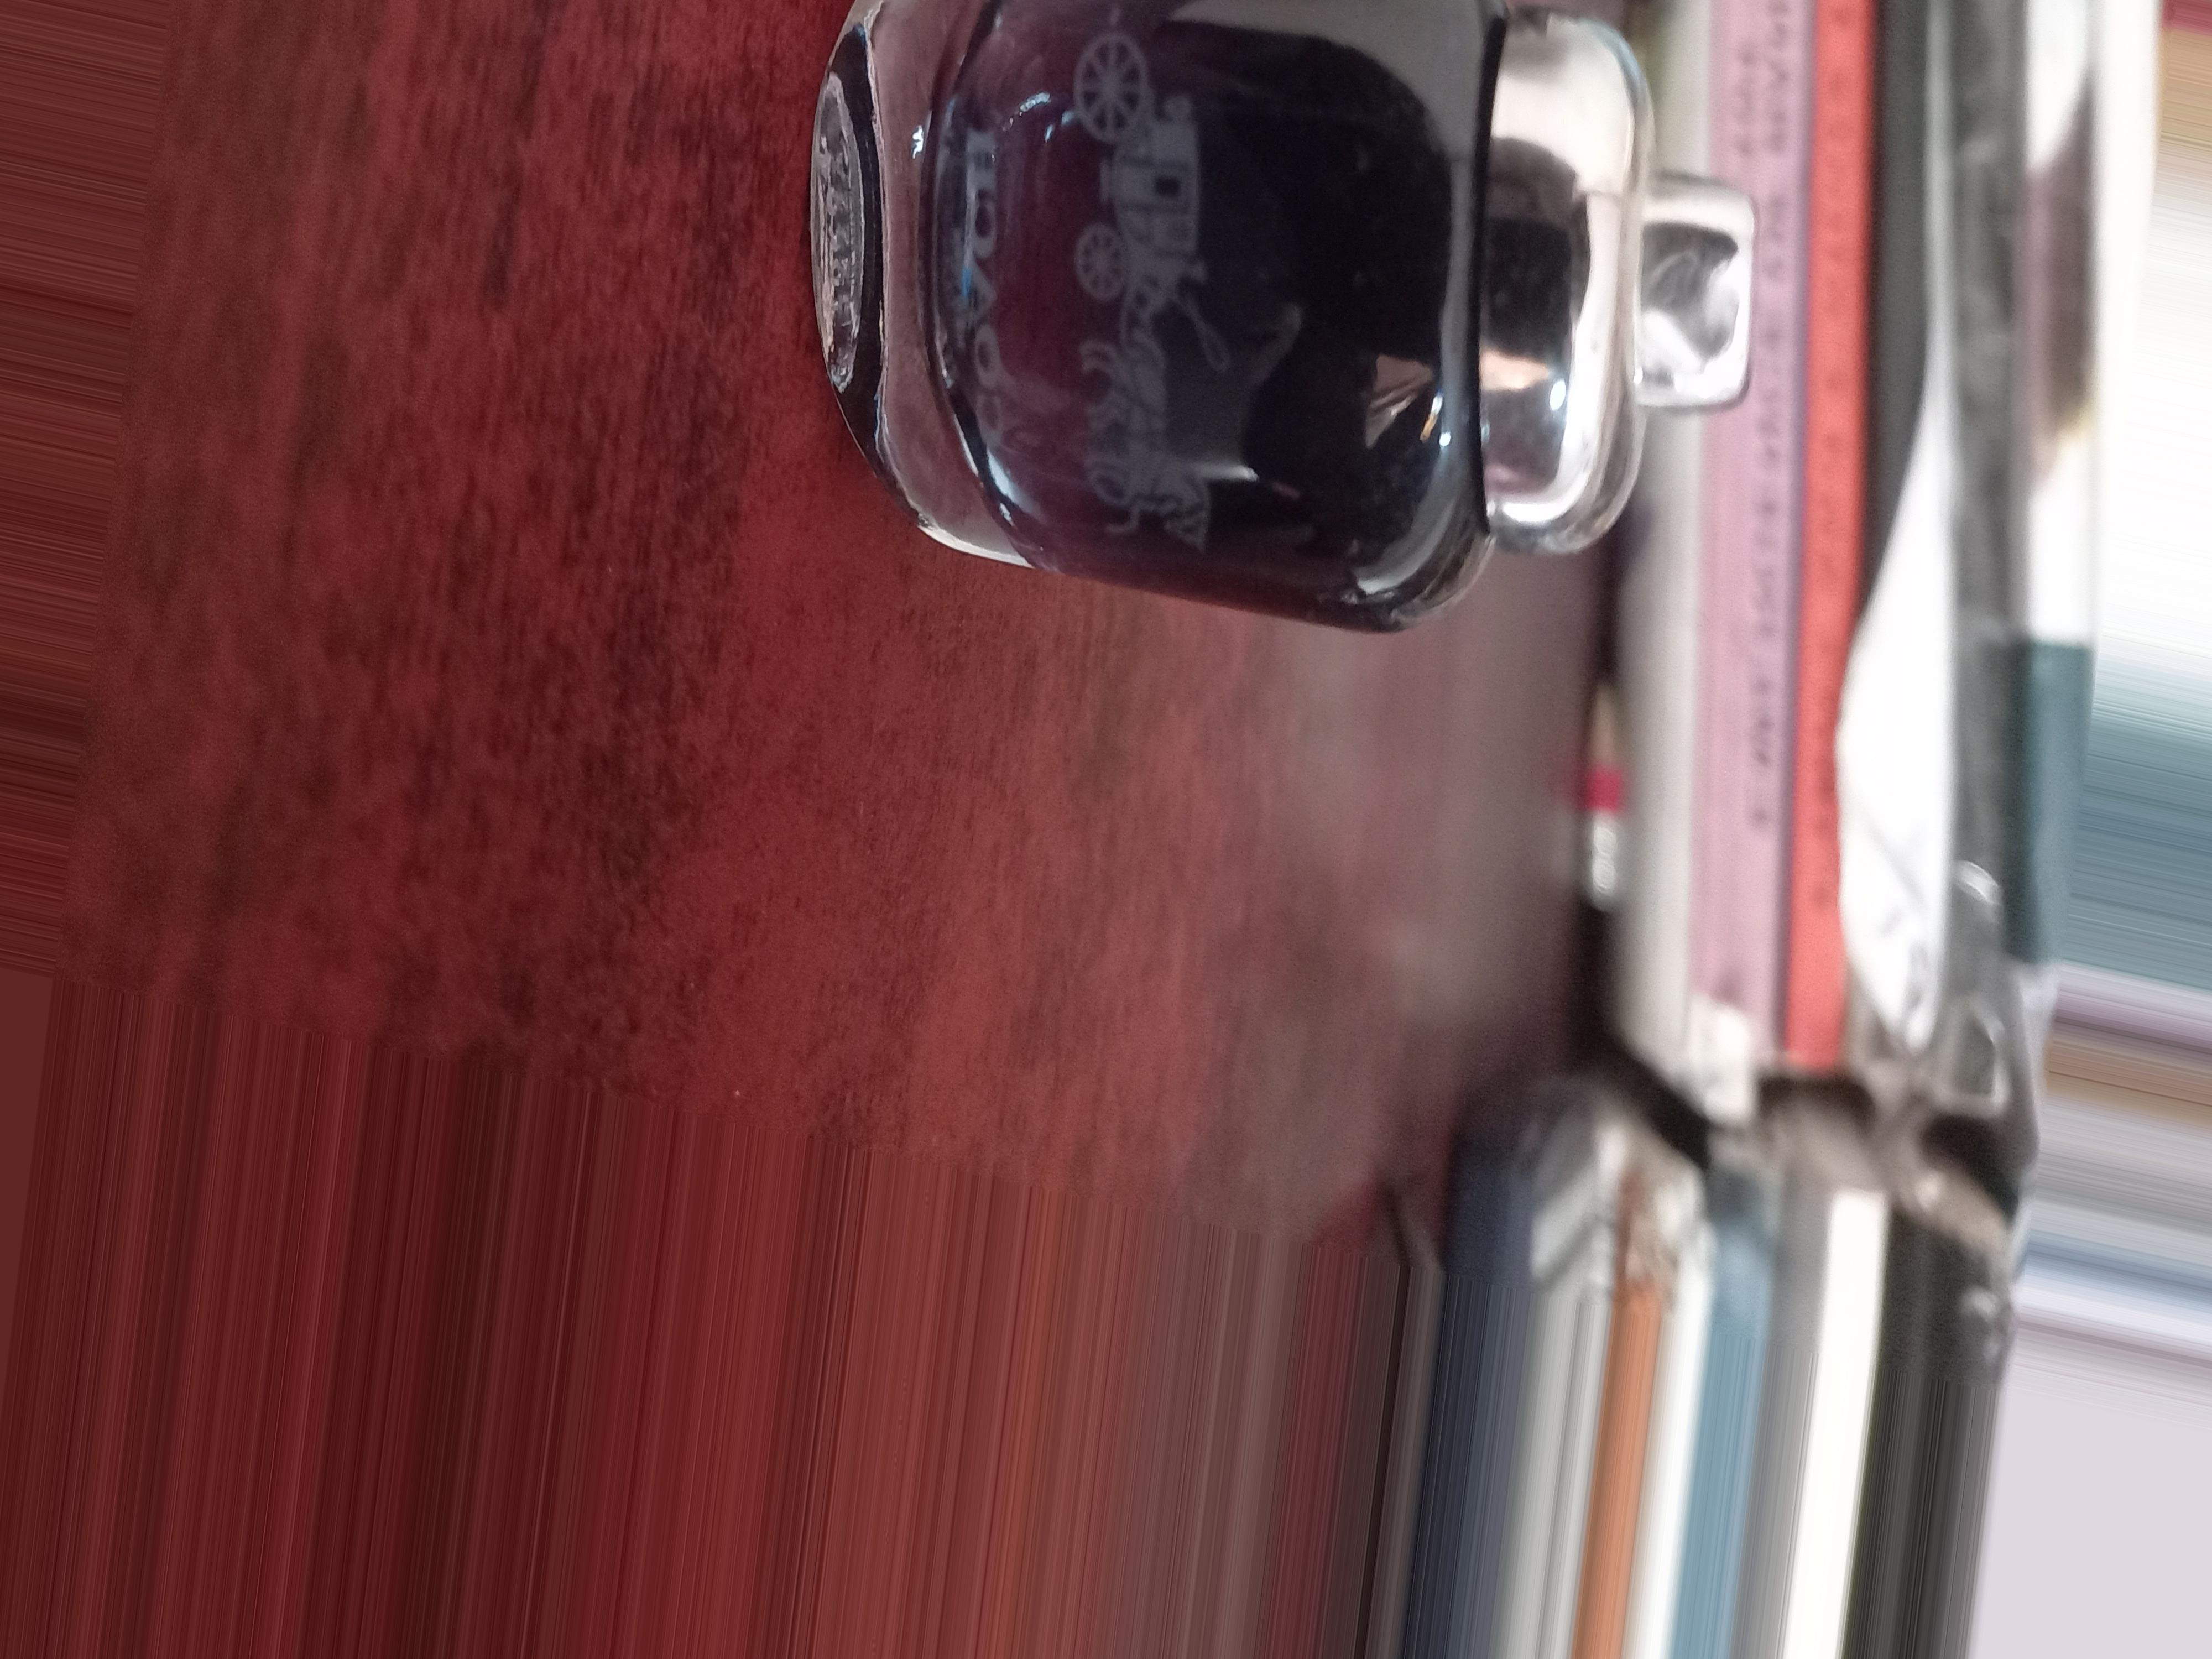perfume: (803, 31, 1639, 497)
